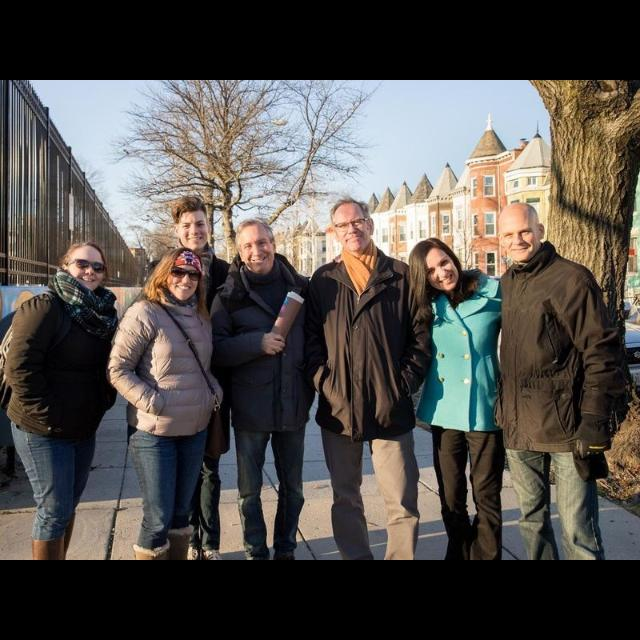head: (497, 203, 547, 265), (411, 238, 461, 292), (235, 219, 277, 277), (331, 200, 375, 252), (162, 249, 204, 303), (62, 244, 106, 294), (174, 198, 214, 252)
